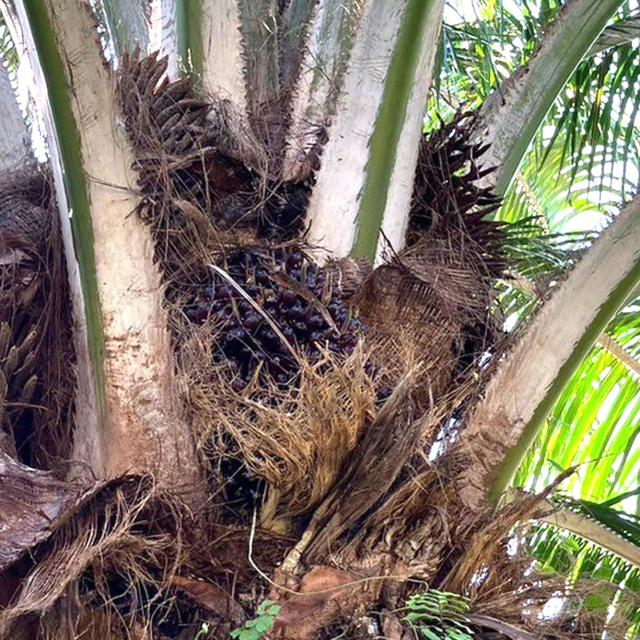almost: (156, 215, 364, 475)
